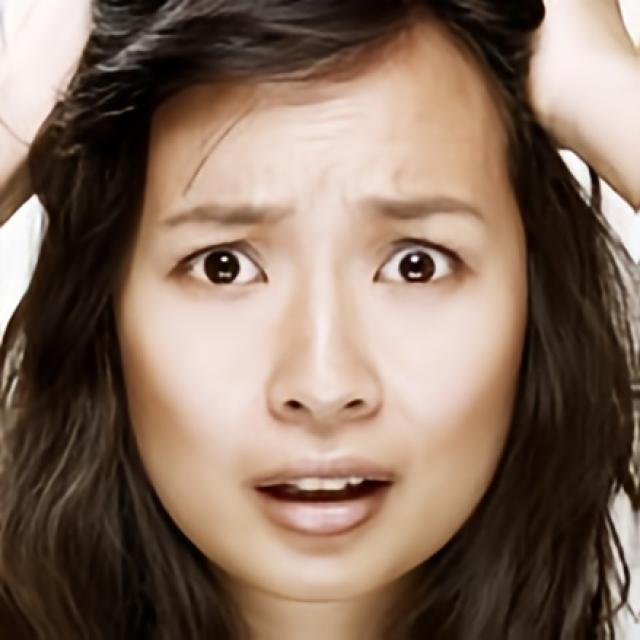Fear: (116, 16, 530, 604)
